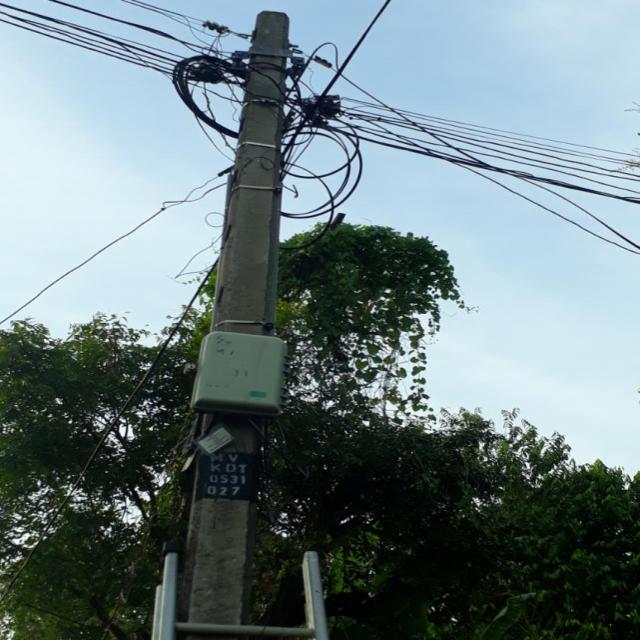light_pole: (172, 0, 310, 640)
